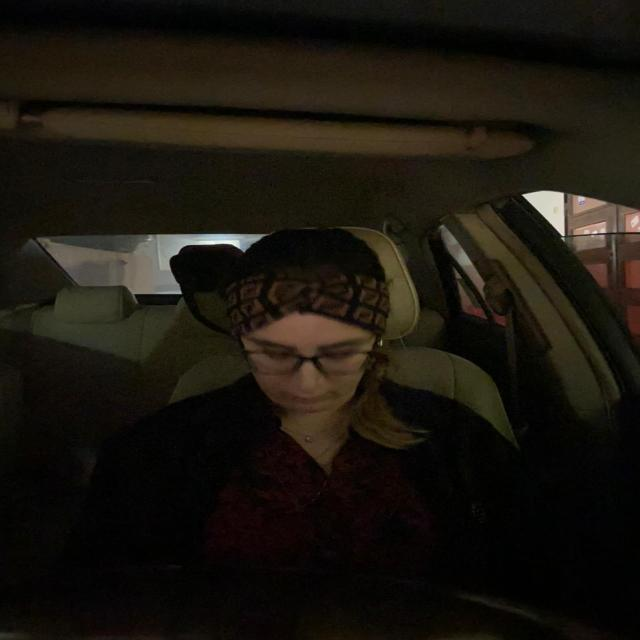drowsy: (225, 224, 398, 418)
